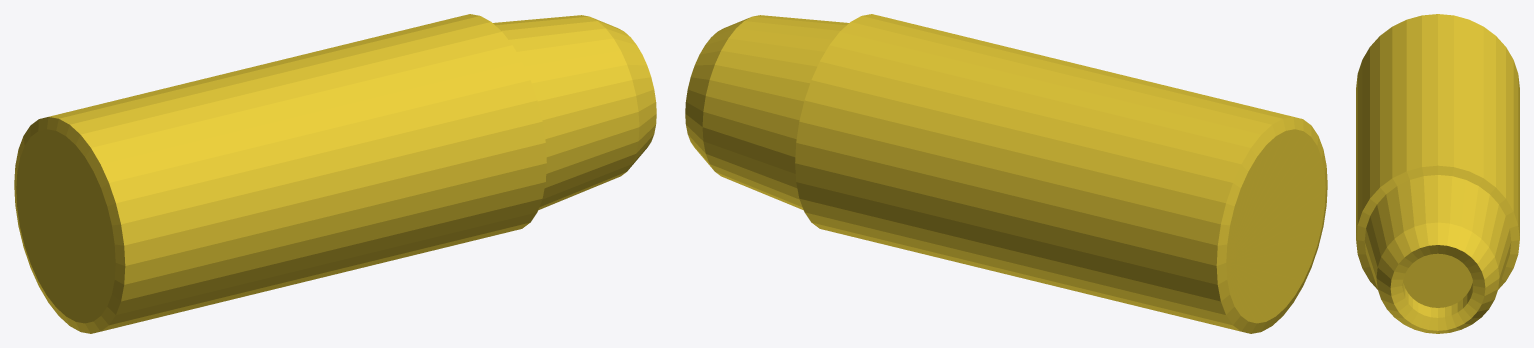
The model's file is SG_Shell.fbx.
3 renders of one model, left to right at view 1: azimuth 30°, elevation 25°; view 2: azimuth 150°, elevation 25°; view 3: azimuth 270°, elevation 25°, orthographic. The views are drawn at different scales.
Visible parts, largest first — view 1: Cone.002; view 2: Cone.002; view 3: Cone.002.
Boxes of the visible parts, left/top/right/bottom form: Cone.002: left=14, top=14, right=656, bottom=333; Cone.002: left=685, top=14, right=1327, bottom=333; Cone.002: left=1356, top=14, right=1519, bottom=333.
Bounding box in the file's own units: 774 × 266 × 266.
